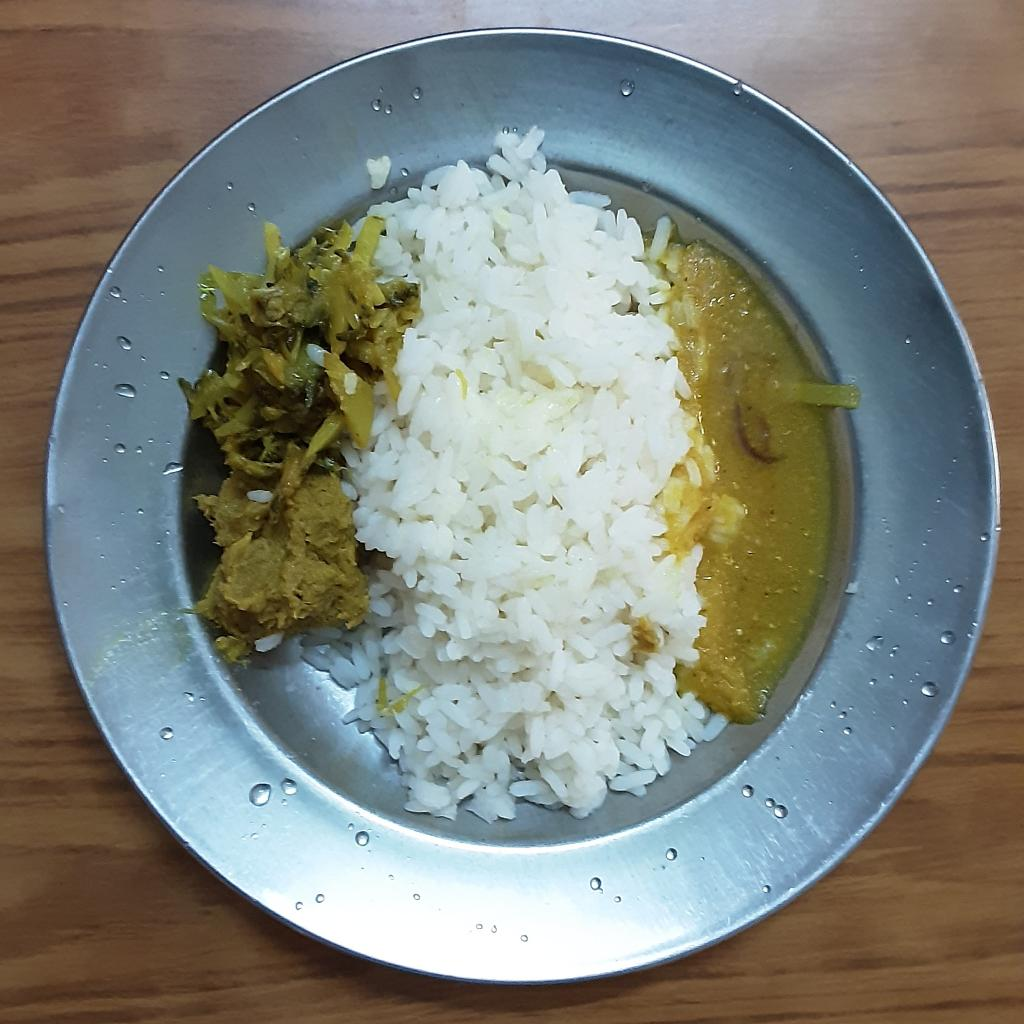daal: (672, 241, 862, 727)
korola-vaji: (172, 211, 416, 470)
rice: (302, 122, 732, 830)
vorta: (200, 461, 368, 657)
